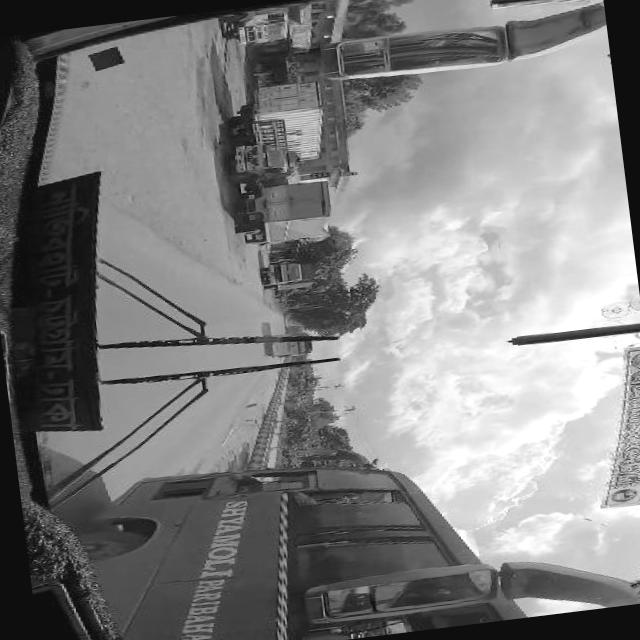bus: (78, 428, 514, 640), (268, 329, 314, 357)
truck: (226, 78, 326, 166), (236, 178, 336, 246), (224, 137, 302, 190), (225, 2, 315, 45), (260, 256, 318, 294)
